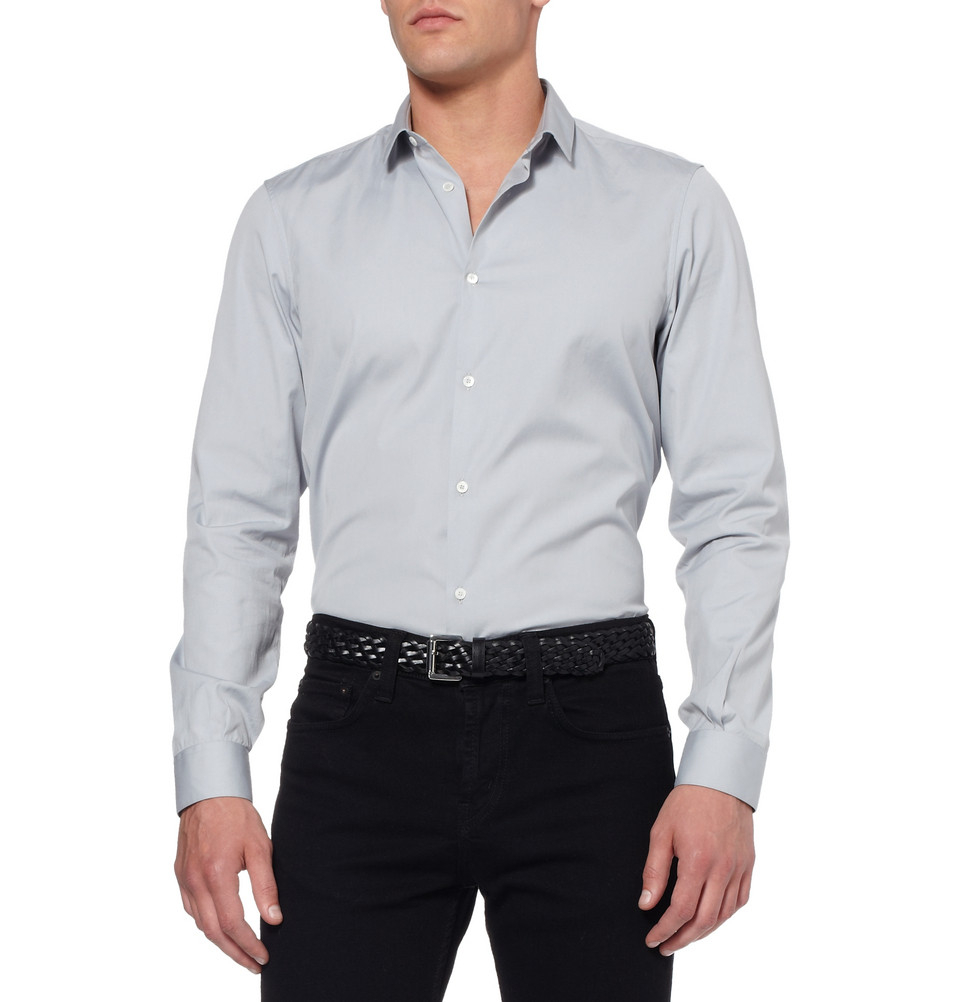F_belt: (289, 611, 662, 690)
F_dress pants: (269, 619, 676, 1002)
F_shirt: (181, 119, 787, 826)
